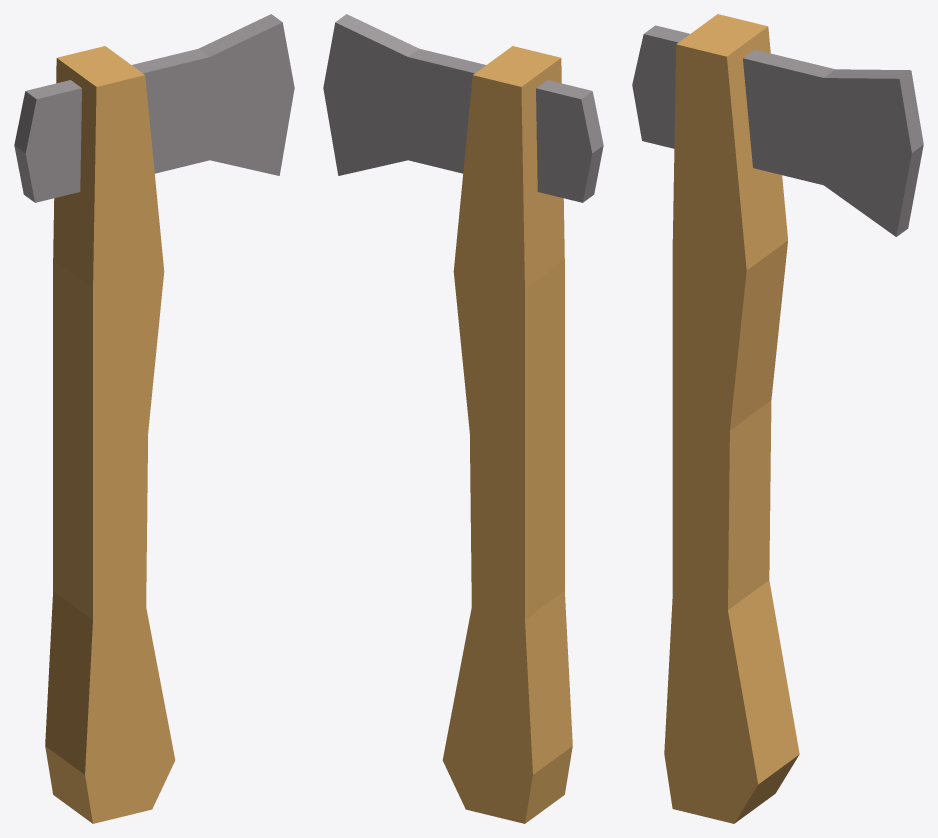
Rendered from axe_bad.fbx.
3 renders of one model, left to right at view 1: azimuth 30°, elevation 25°; view 2: azimuth 150°, elevation 25°; view 3: azimuth 330°, elevation 25°, orthographic. The views are drawn at different scales.
Parts seen in each view (by area): view 1: Cube, Cube.001; view 2: Cube, Cube.001; view 3: Cube, Cube.001.
Part boxes in pixels (bbox=[...]): Cube: bbox=[45, 46, 175, 823]; Cube.001: bbox=[14, 14, 294, 202]; Cube: bbox=[442, 46, 572, 823]; Cube.001: bbox=[323, 14, 603, 202]; Cube: bbox=[664, 14, 799, 823]; Cube.001: bbox=[632, 25, 923, 236].
Size of the model in its own units: 27.27 by 71.81 by 7.
